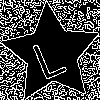L: (26, 28, 69, 81)
